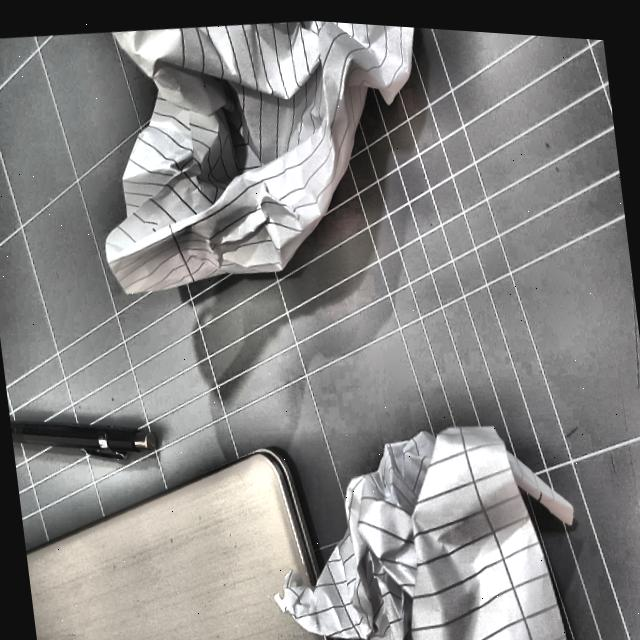paper: (71, 4, 460, 337), (250, 370, 589, 640)
